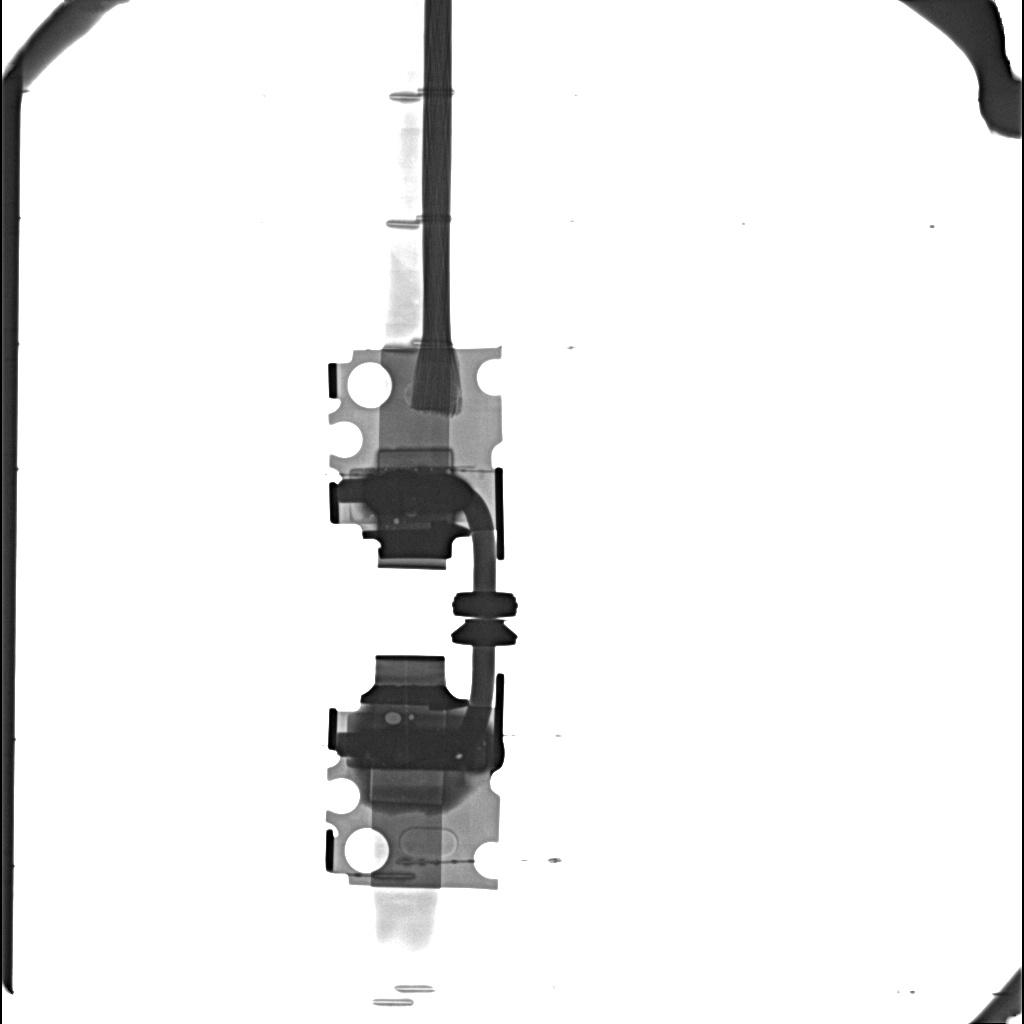气孔: (366, 771, 447, 807), (376, 448, 454, 467)
气泡: (385, 711, 402, 724), (408, 714, 414, 720)
水纹: (353, 728, 486, 770), (366, 471, 471, 513)
